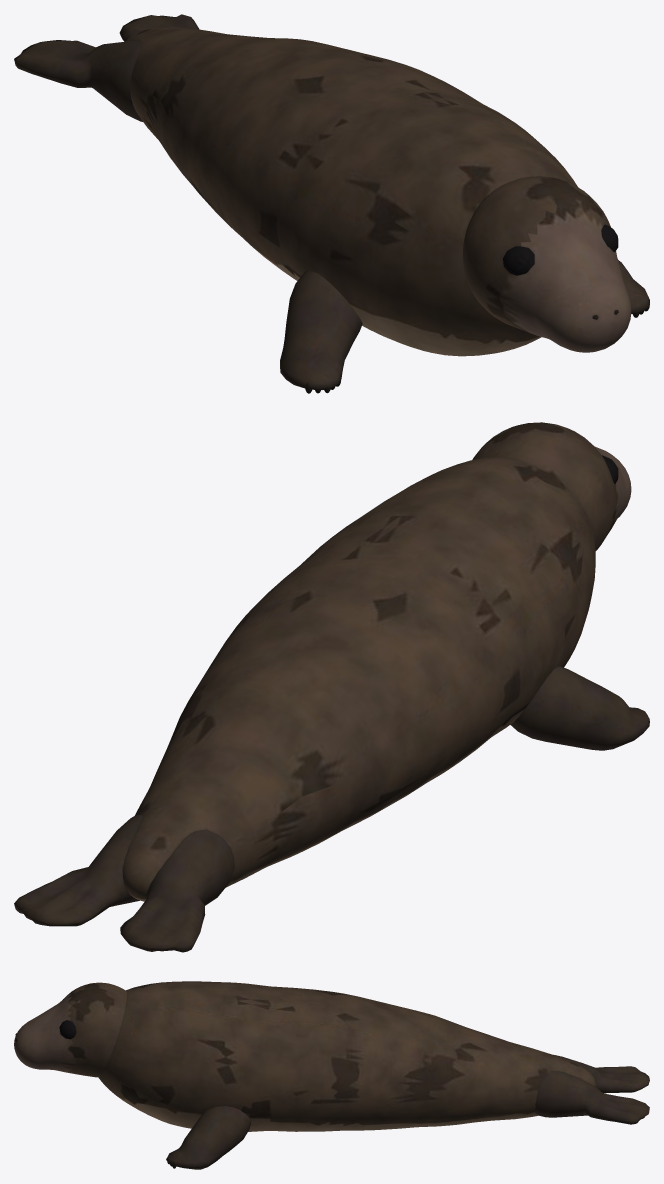
File: harbor_seal.glb
The picture shows the model from 3 angles, top to bottom: view 1: azimuth 30°, elevation 25°; view 2: azimuth 150°, elevation 25°; view 3: azimuth 270°, elevation 25°; orthographic projection. The views are drawn at different scales.
Parts seen in each view (by area): view 1: harbor_seal, head, flip0, tail, flip1; view 2: harbor_seal, tail, head, flip0; view 3: harbor_seal, head, tail, flip1.
Boxes of the visible parts, x1,y1,x2,y2 form: harbor_seal: (126,27,577,356); head: (463,176,631,352); flip0: (280,270,362,393); tail: (14,14,199,121); flip1: (618,260,649,317); harbor_seal: (122,457,595,901); tail: (14,814,234,952); head: (472,422,631,550); flip0: (510,666,649,750); harbor_seal: (98,981,595,1131); head: (14,982,126,1077); tail: (535,1054,649,1124); flip1: (166,1106,250,1169).
Size of the model in its own units: 0.3007 by 0.18 by 0.7558.
Materials: 1 (1 with a texture image).
